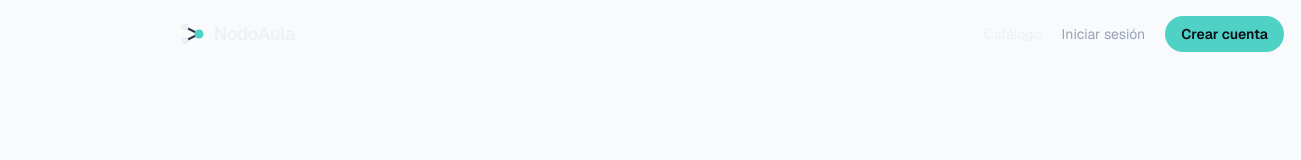
Test case: SiteHeader › sin sesión, iniciar sesión y crear cuenta vuelven a la página donde se estaba
Click the link "Crear cuenta" at coordinates (1225, 34), box [1165, 16, 1284, 52]
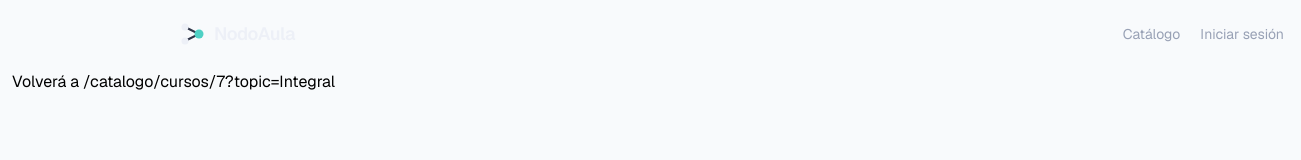
Expected: the text "Volverá a /catalogo/cursos/7?topic=Integral" is shown, [12, 71, 335, 92]
